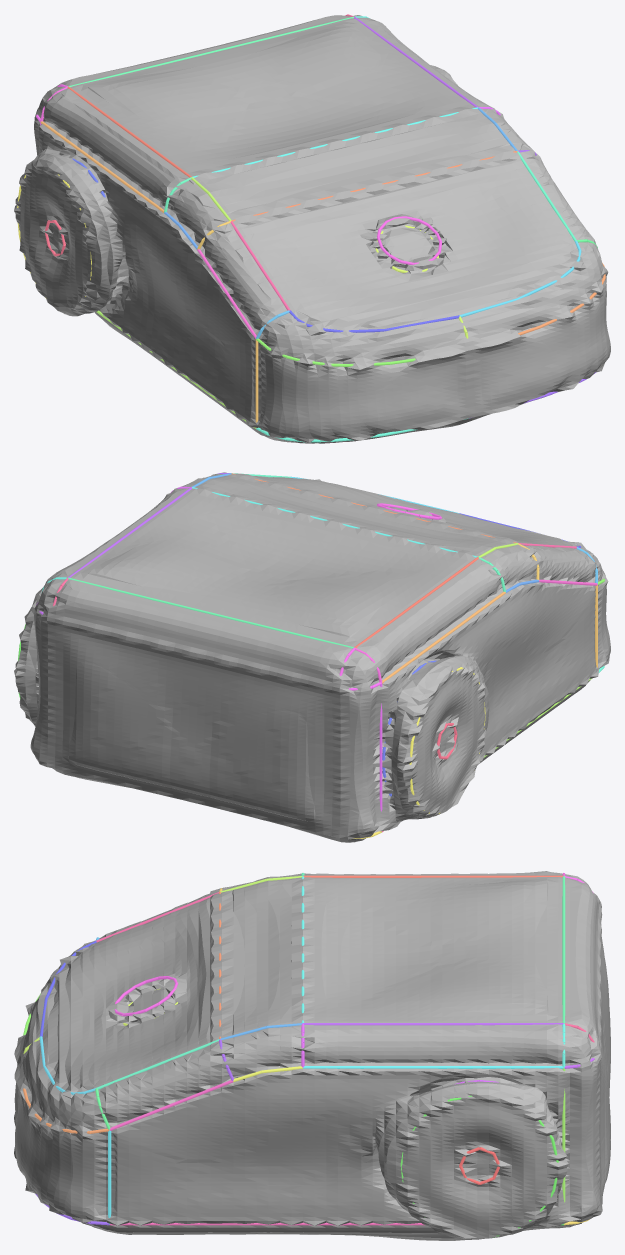
Rendered from onshape_vacuum.gltf.
3 renders of one model, top to bottom at view 1: azimuth 30°, elevation 25°; view 2: azimuth 150°, elevation 25°; view 3: azimuth 270°, elevation 25°, orthographic. The views are drawn at different scales.
Bounding box in the file's own units: 0.6331 × 0.3438 × 0.7715.
